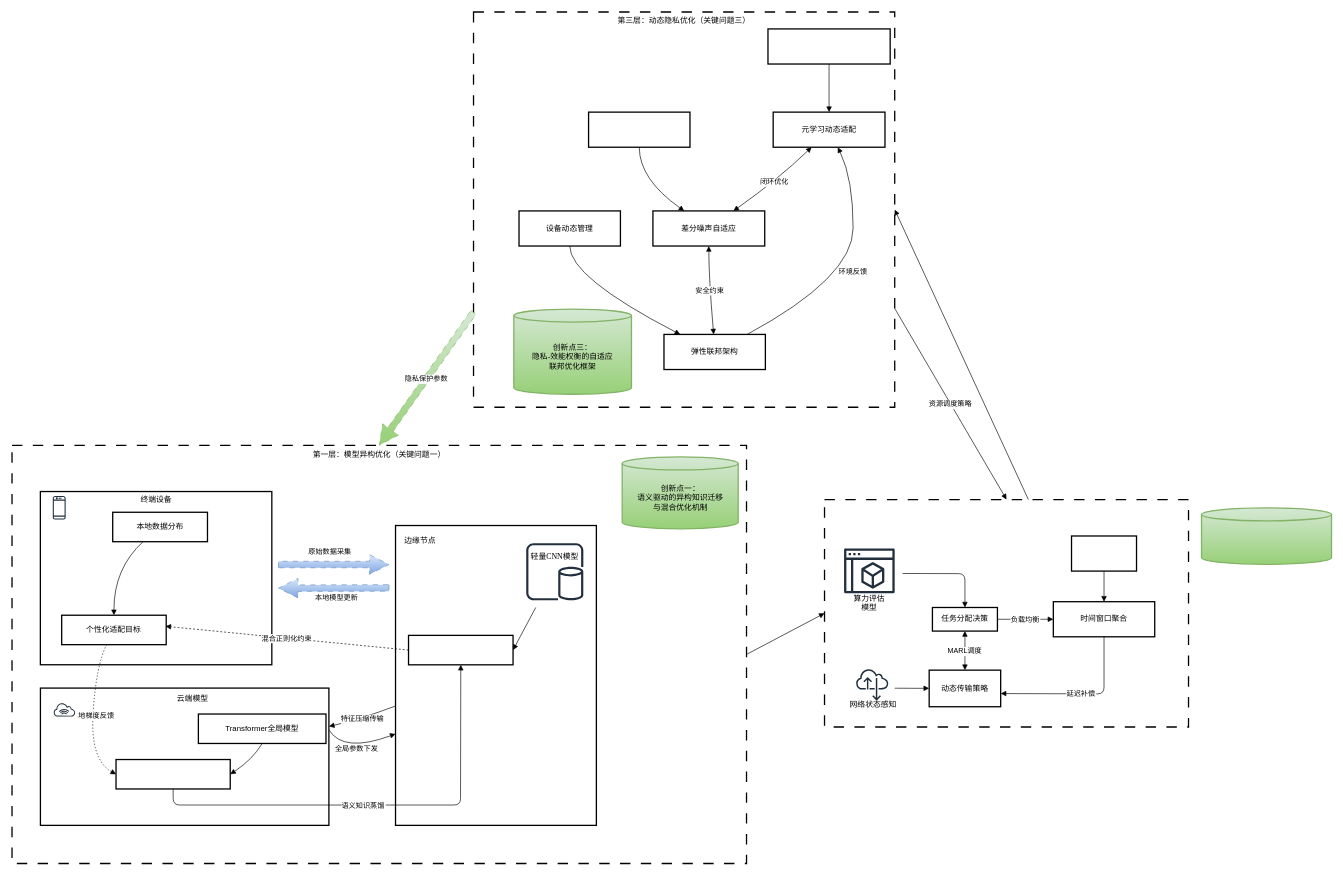
Some shapes in this 1343 by 875 pixel diagram are drawn without their labels. Each missing label, with the box of its shape:
创新点二： 网络-算力感知的弹性联邦 通信与资源调度: (1201, 507, 1332, 565)
动态语义空间映射: (115, 759, 231, 789)
异步梯度补偿: (1071, 535, 1137, 571)
数据分布漂移检测: (767, 28, 890, 64)
特征层语义对齐: (408, 634, 513, 665)
第二层：通信与算力优化（关键问题二）: (824, 499, 1189, 727)
隐私需求分析: (588, 111, 690, 148)
